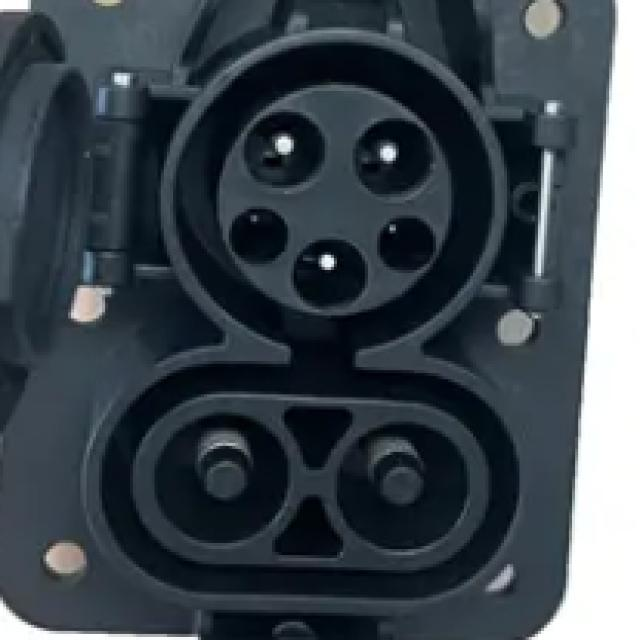CCS1: (89, 32, 563, 632)
